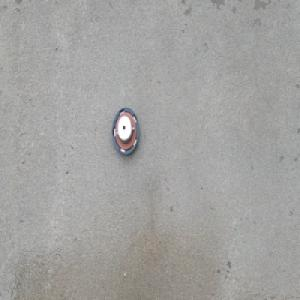FuelCap: (111, 106, 140, 158)
